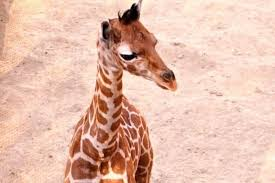Jirafa: (78, 1, 187, 118)
